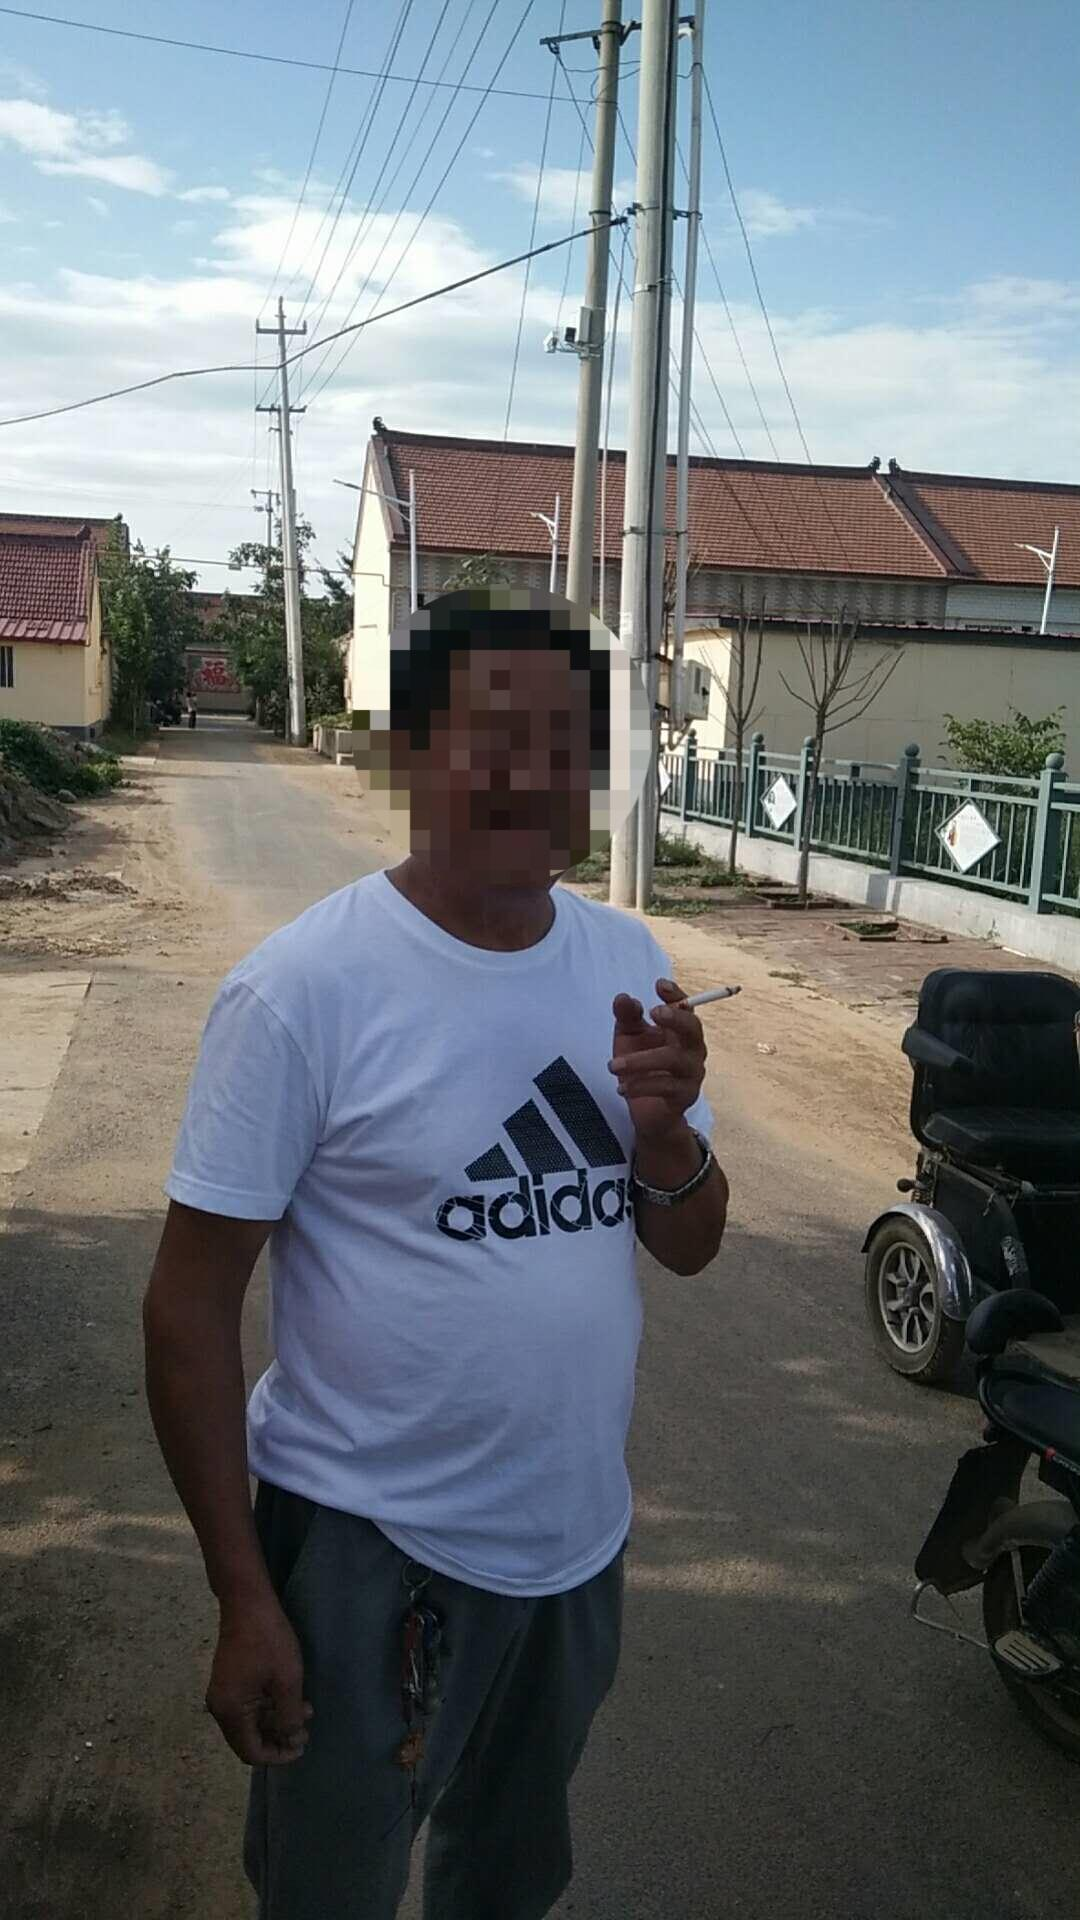smoke: (654, 978, 746, 1011)
